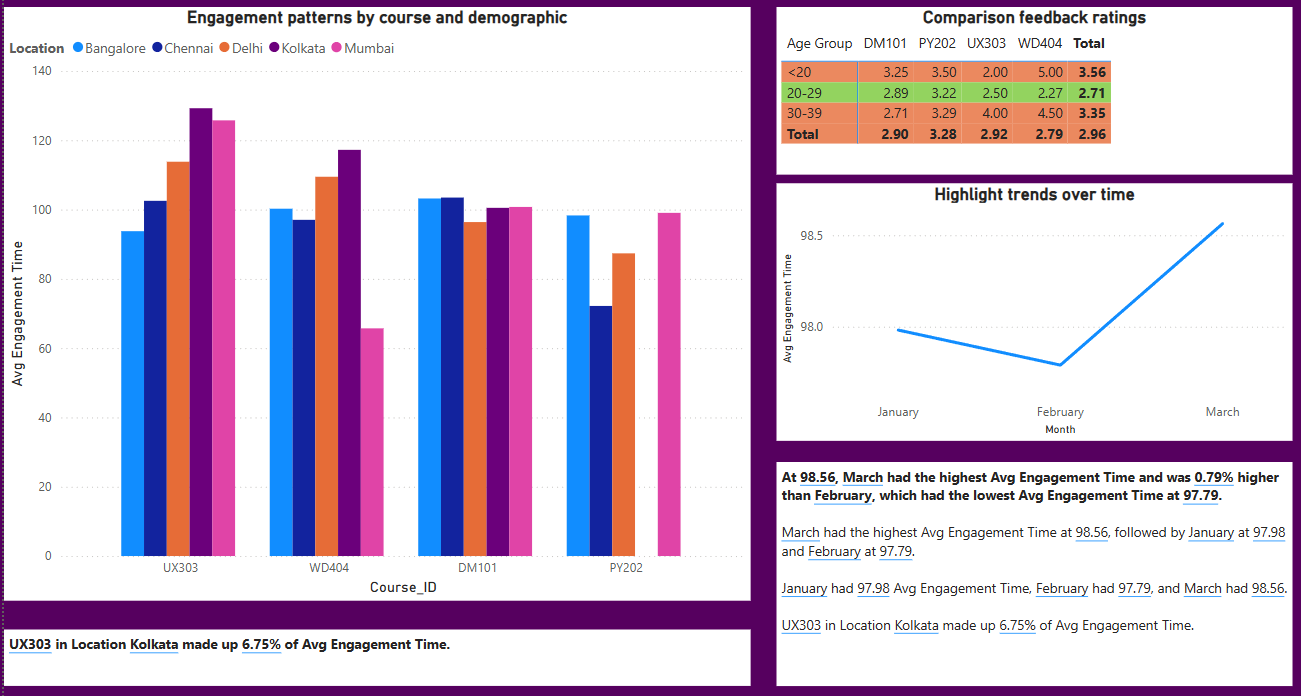

This screenshot's page, from the dashboard's own definition file:
{"tool":"powerbi","page":{"name":"Page 4","canvas":[1280,720],"ordinal":3},"visuals":[{"type":"clusteredColumnChart","title":" Engagement patterns by course and demographic","fields":{"Y":["course_activity.Avg Engagement Time"],"Category":["feedback.Course_ID"],"Series":["students.Location"]},"box":[0,44,730,580.8],"z":0},{"type":"textbox","box":[0,653,730,55],"z":1000},{"type":"pivotTable","title":"Comparison feedback ratings","fields":{"Rows":["students.Age Group"],"Columns":["feedback.Course_ID"],"Values":["course_activity.Avg Feedback Rating"]},"box":[755.7,44,505,163.9],"z":2000},{"type":"lineChart","title":"Highlight trends over time","fields":{"Category":["course_activity.Date.Variation.Date Hierarchy.Month","course_activity.Date.Variation.Date Hierarchy.Day"],"Y":["course_activity.Avg Engagement Time"]},"box":[755.7,216.4,505,251.9],"z":3000},{"type":"textbox","box":[755.7,489.1,505,218.9],"z":4000}]}

Visuals, with their boxes in screenshot pixels (x1, y1, x2, y2):
" Engagement patterns by course and demographic" clusteredColumnChart: bbox(0, 4, 746, 598)
textbox: bbox(0, 627, 746, 683)
"Comparison feedback ratings" pivotTable: bbox(773, 4, 1289, 172)
"Highlight trends over time" lineChart: bbox(773, 181, 1289, 438)
textbox: bbox(773, 459, 1289, 683)
